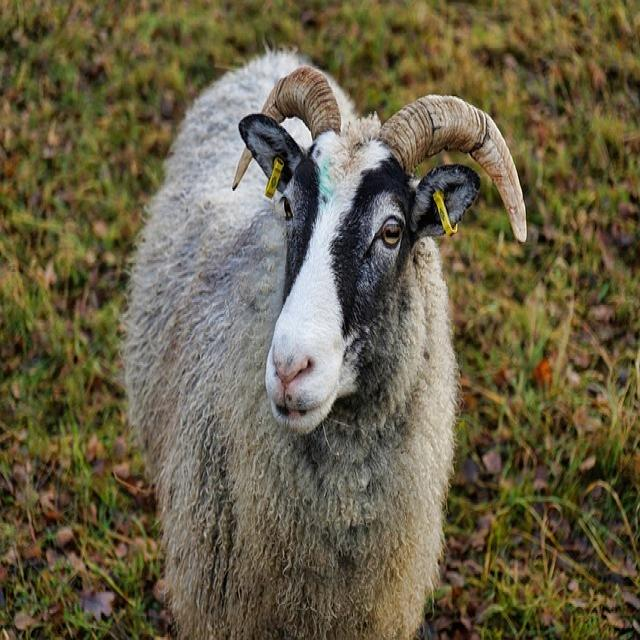sheep: (119, 42, 527, 639)
